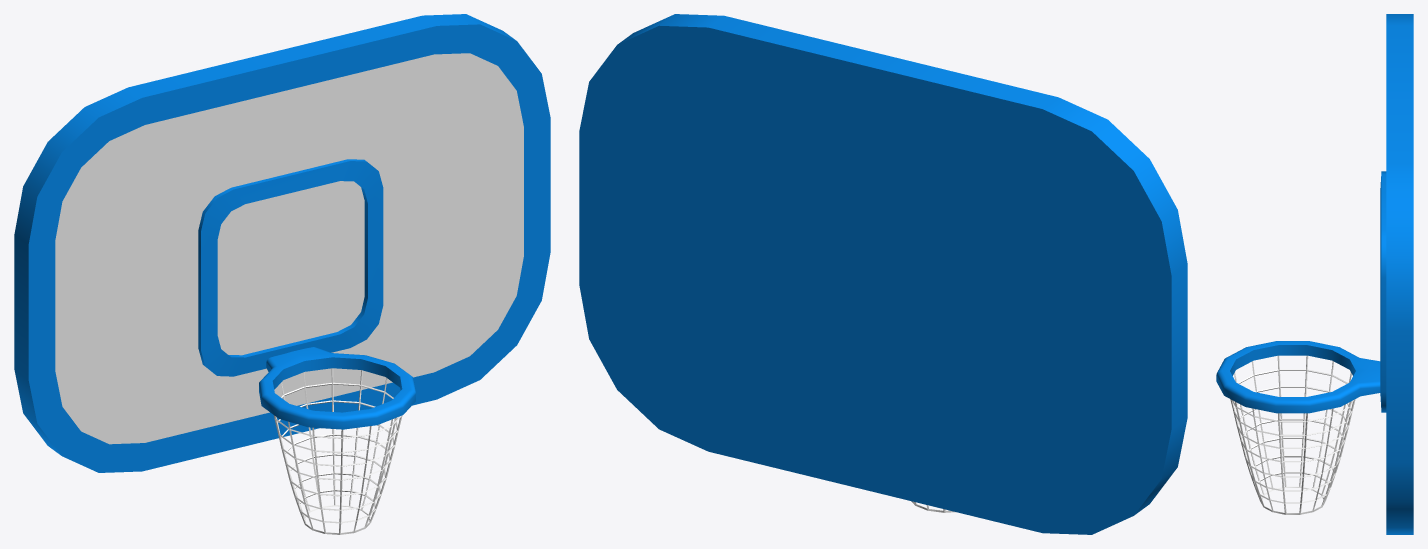
File: Basketball Net_2.fbx
The picture shows the model from 3 angles, left to right: view 1: azimuth 30°, elevation 25°; view 2: azimuth 150°, elevation 25°; view 3: azimuth 270°, elevation 25°; orthographic projection. The views are drawn at different scales.
Visible parts, largest first — view 1: Basketball Net_2; view 2: Basketball Net_2; view 3: Basketball Net_2.
Boxes of the visible parts, left/top/right/bottom form: Basketball Net_2: left=14, top=14, right=550, bottom=534; Basketball Net_2: left=579, top=14, right=1187, bottom=534; Basketball Net_2: left=1216, top=14, right=1413, bottom=534.
Size of the model in its own units: 0.9596 by 0.7435 by 0.3263.
